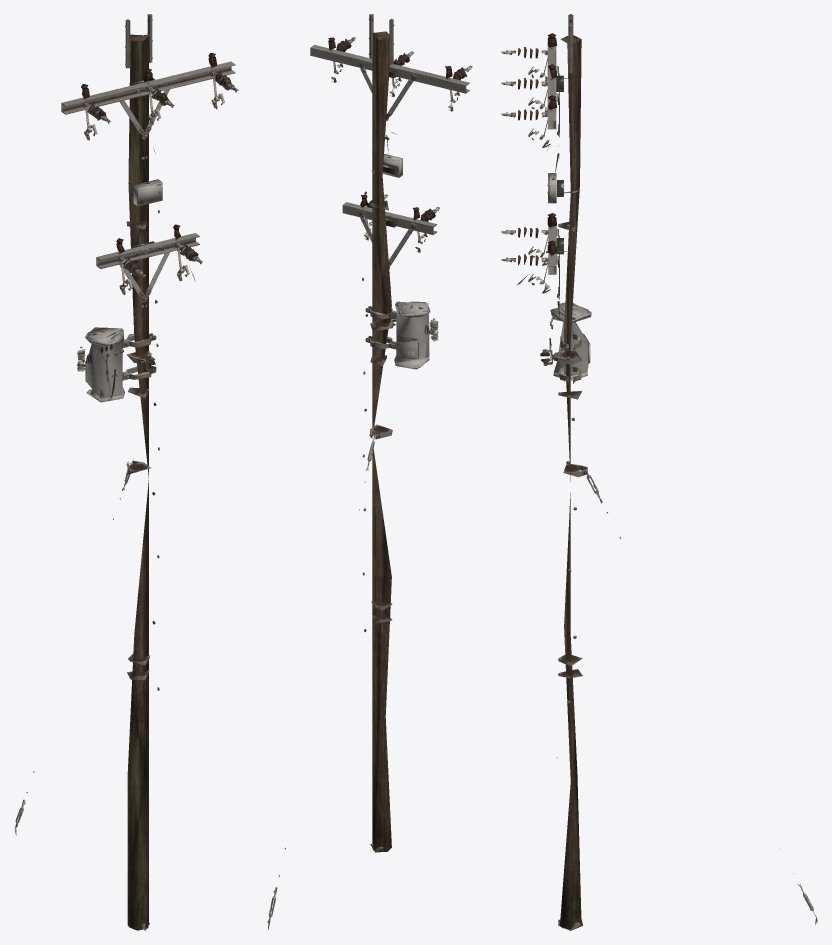
The model's file is modular_electricity_poles.glb.
The picture shows the model from 3 angles, left to right: view 1: azimuth 30°, elevation 25°; view 2: azimuth 150°, elevation 25°; view 3: azimuth 270°, elevation 25°; orthographic projection. The views are drawn at different scales.
Visible parts, largest first — view 1: preset_01_bolt_small_01, preset_01_pole; view 2: preset_01_pole, preset_01_bolt_small_01; view 3: preset_01_bolt_small_01, preset_01_pole.
Part boxes in pixels (x1,y1,x2,y2): preset_01_bolt_small_01: [14, 14, 238, 930]; preset_01_pole: [127, 34, 148, 930]; preset_01_pole: [372, 31, 391, 852]; preset_01_bolt_small_01: [267, 14, 472, 929]; preset_01_bolt_small_01: [501, 14, 817, 930]; preset_01_pole: [560, 35, 581, 929].
Bounding box in the file's own units: 1.2 × 6.13 × 1.94.
2 materials, 2 textured.
